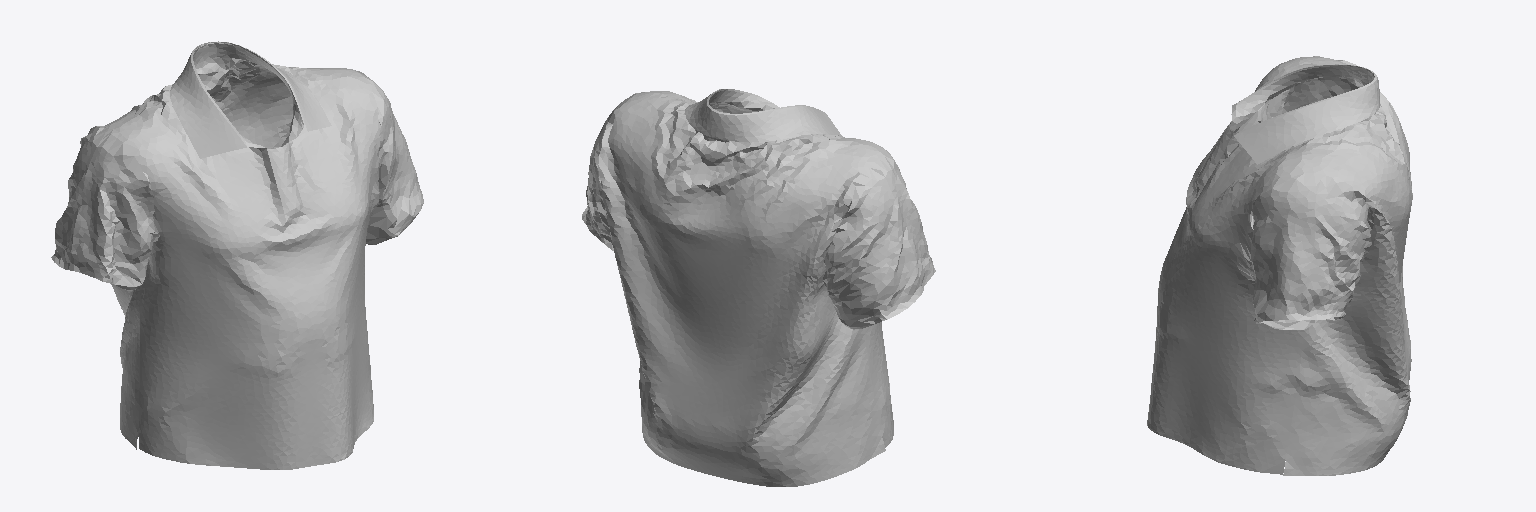
The model's file is XL_Average.obj.
The picture shows the model from 3 angles: view 1: azimuth 30°, elevation 25°; view 2: azimuth 150°, elevation 25°; view 3: azimuth 270°, elevation 25°; orthographic projection.
Visible parts, largest first — view 1: polo3-30.002; view 2: polo3-30.002; view 3: polo3-30.002.
Boxes of the visible parts, x1,y1,x2,y2 form: polo3-30.002: [51, 41, 423, 469]; polo3-30.002: [582, 89, 935, 486]; polo3-30.002: [1147, 56, 1412, 475].
Bounding box in the file's own units: 0.6824 × 0.6842 × 0.4611.